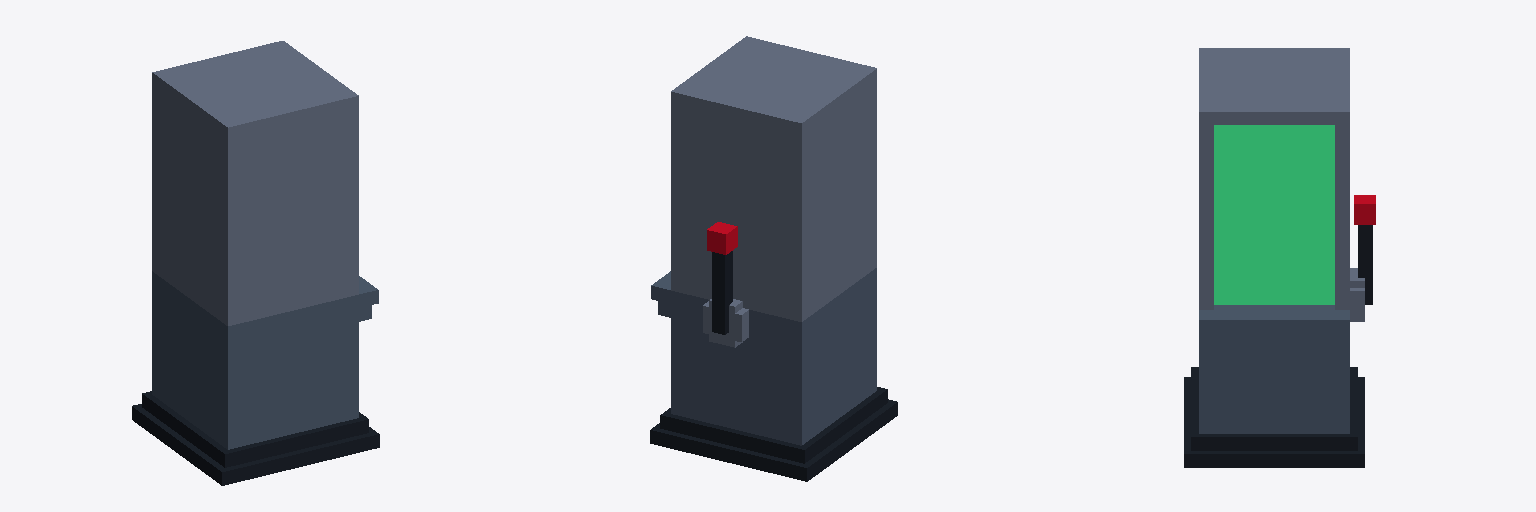
The picture shows the model from 3 angles: view 1: azimuth 30°, elevation 25°; view 2: azimuth 150°, elevation 25°; view 3: azimuth 270°, elevation 25°; orthographic projection.
Visible parts, largest first — view 1: cube, cuboid; view 2: cube, cuboid; view 3: cube, cuboid.
Part boxes in pixels (x1,y1,x2,y2): cube: (152,41,378,449); cuboid: (132,391,379,485); cube: (651,36,876,445); cuboid: (650,387,897,481); cube: (1199,48,1375,433); cuboid: (1184,367,1364,467).
Size of the model in its own units: 1.56 by 3.19 by 1.59.
Materials: 2 (1 with a texture image).